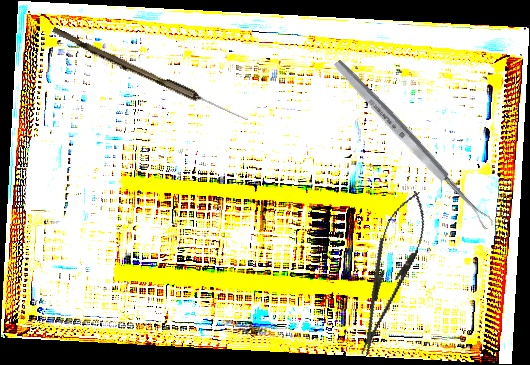Needle Holder: (344, 185, 436, 361)
Surgical Spoon: (331, 57, 496, 232), (50, 26, 250, 125)
